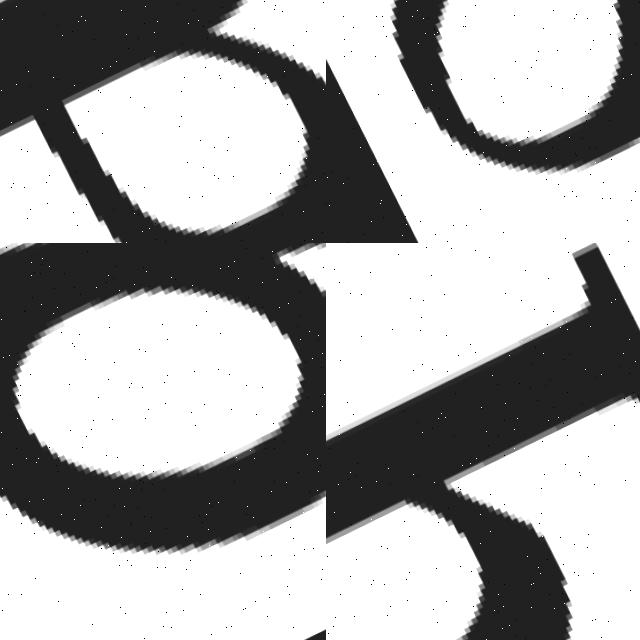8: (326, 0, 640, 243)
A: (0, 0, 326, 243)
Q: (0, 243, 326, 640), (326, 243, 640, 640)
